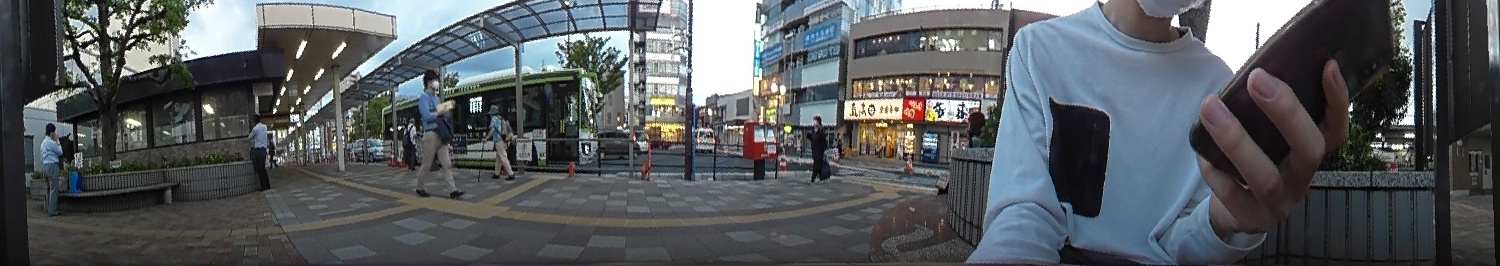difficult_person: (265, 135, 277, 166)
person: (405, 67, 465, 203), (34, 122, 67, 215), (243, 114, 274, 194), (484, 105, 515, 181), (803, 113, 833, 184)
